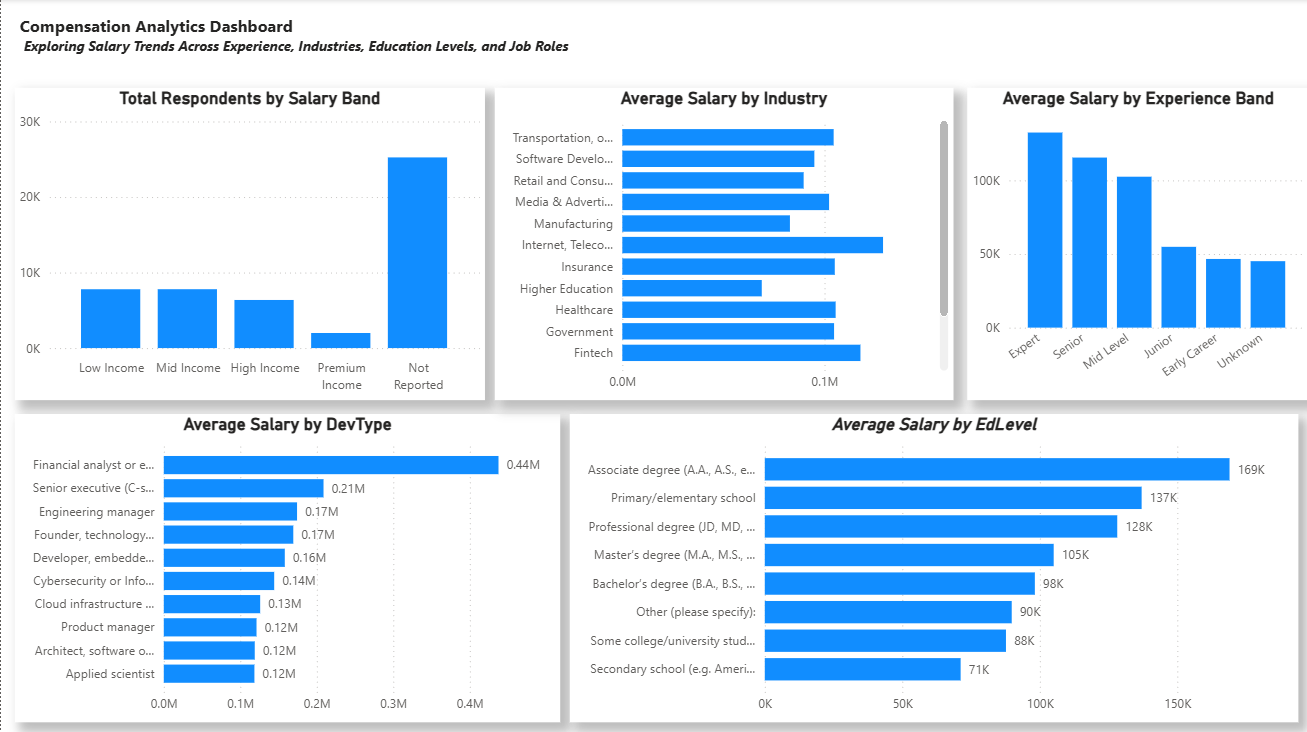

The page's visual inventory and layout, read from the dashboard file:
{"tool":"powerbi","page":{"name":"Page 2","canvas":[1280,720],"ordinal":1},"visuals":[{"type":"columnChart","fields":{"Category":["workforce_base.Salary Band"],"Y":["workforce_base.Total Respondents"]},"box":[13,86.6,460.2,305.9],"z":0},{"type":"clusteredBarChart","fields":{"Y":["workforce_base.Average Salary"],"Category":["workforce_base.DevType"]},"box":[13,405.4,533.8,301.5],"z":1000},{"type":"clusteredBarChart","fields":{"Category":["workforce_base.Industry"],"Y":["workforce_base.Average Salary"]},"box":[483.3,86.6,448.7,305.9],"z":2000},{"type":"clusteredColumnChart","fields":{"Category":["workforce_base.Experience Band"],"Y":["workforce_base.Average Salary"]},"box":[945,86.6,334.7,305.9],"z":3000},{"type":"clusteredBarChart","fields":{"Category":["workforce_base.EdLevel"],"Y":["workforce_base.Average Salary"]},"box":[556.9,405.4,712.7,301.5],"z":4000},{"type":"textbox","box":[13.5,9.8,672.6,61.1],"z":5000}]}

Visuals, with their boxes in screenshot pixels (x1, y1, x2, y2), scaled from the page's 1280x720 canvas onto the 1307x732 screenshot:
columnChart - workforce_base.Salary Band x workforce_base.Total Respondents: x1=13, y1=88, x2=483, y2=399
clusteredBarChart - workforce_base.Average Salary x workforce_base.DevType: x1=13, y1=412, x2=558, y2=719
clusteredBarChart - workforce_base.Industry x workforce_base.Average Salary: x1=493, y1=88, x2=952, y2=399
clusteredColumnChart - workforce_base.Experience Band x workforce_base.Average Salary: x1=965, y1=88, x2=1306, y2=399
clusteredBarChart - workforce_base.EdLevel x workforce_base.Average Salary: x1=569, y1=412, x2=1296, y2=719
textbox: x1=14, y1=10, x2=701, y2=72
